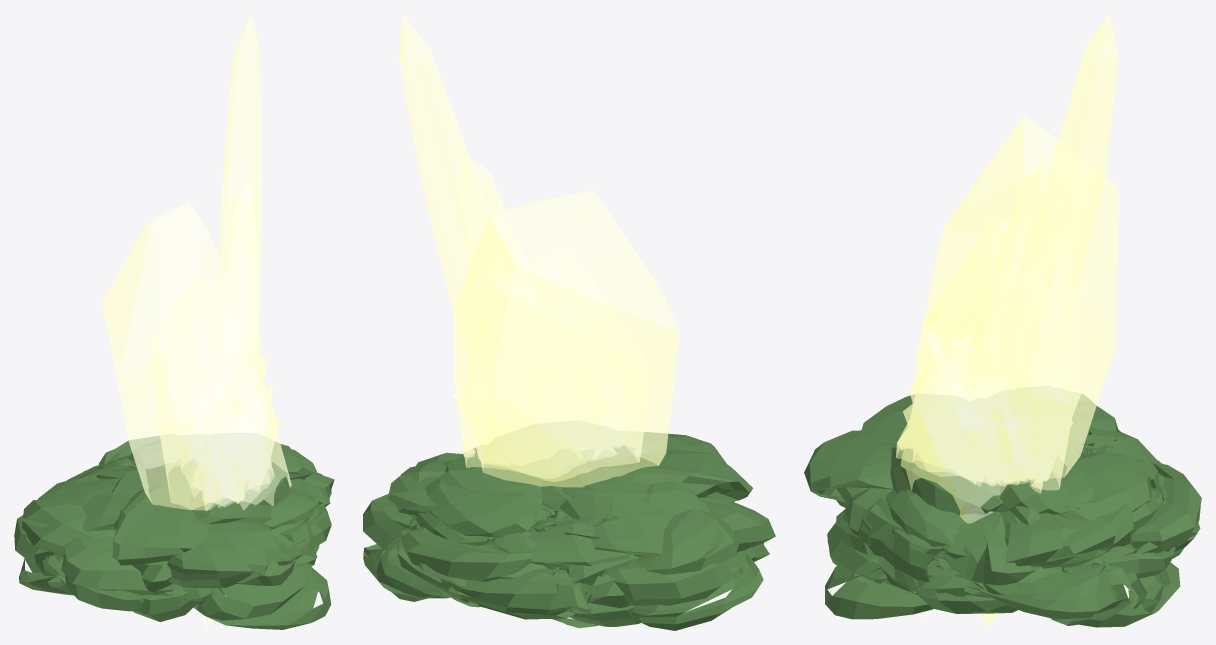
File: XRYSTAL23.gltf
3 views of the same model, side by side, from view 1: azimuth 30°, elevation 25°; view 2: azimuth 150°, elevation 25°; view 3: azimuth 270°, elevation 25° (orthographic). The views are drawn at different scales.
Visible parts, largest first — view 1: Circle.001_Circle.002, Cube.001; view 2: Circle.001_Circle.002, Cube.001; view 3: Circle.001_Circle.002, Cube.001.
Part boxes in pixels (bbox=[...]): Circle.001_Circle.002: bbox=[102, 14, 291, 629]; Cube.001: bbox=[14, 436, 334, 629]; Circle.001_Circle.002: bbox=[399, 14, 679, 486]; Cube.001: bbox=[363, 432, 775, 630]; Circle.001_Circle.002: bbox=[896, 14, 1118, 630]; Cube.001: bbox=[804, 394, 1201, 627].
Size of the model in its own units: 2.51 by 4.04 by 2.18.
